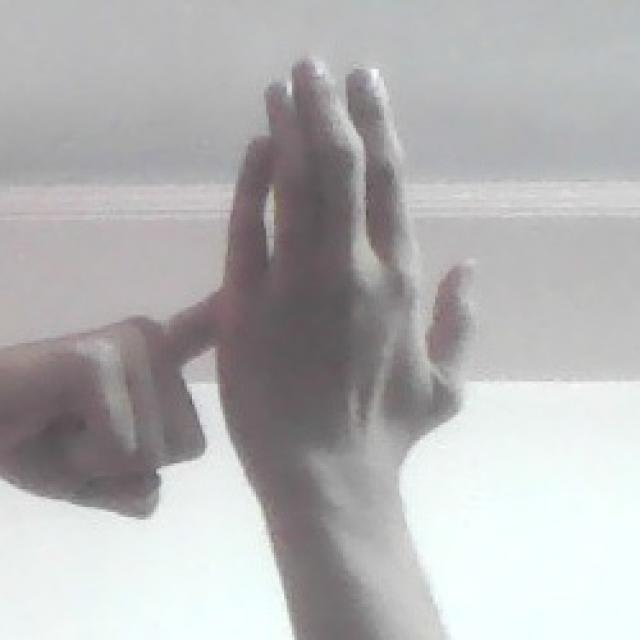Alphabet-R: (6, 46, 498, 556)
